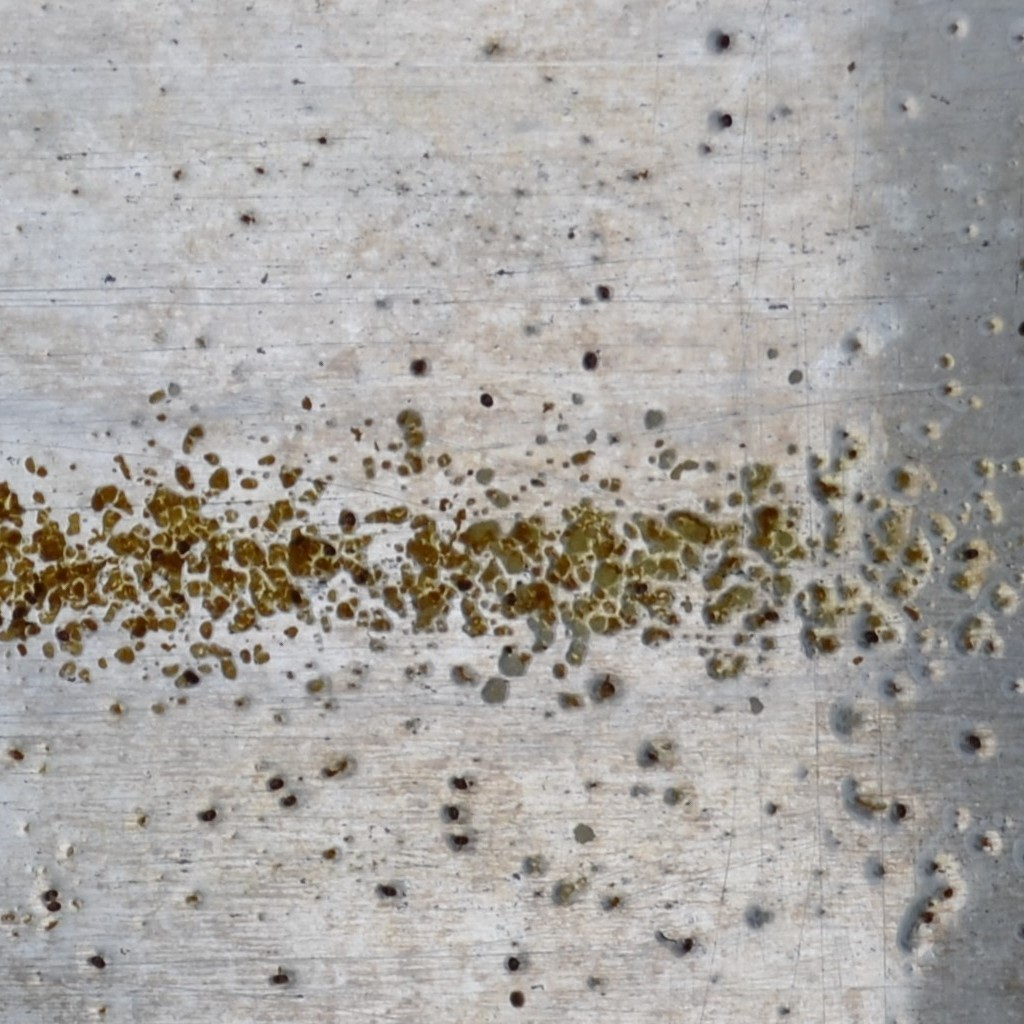varroa: (861, 627, 881, 647), (508, 988, 526, 1010), (182, 666, 200, 688), (268, 771, 285, 794), (582, 347, 599, 370), (200, 806, 219, 826), (962, 543, 979, 565), (478, 390, 495, 411), (967, 729, 984, 750), (506, 953, 522, 975), (452, 832, 470, 851), (715, 108, 734, 126), (88, 952, 108, 969), (762, 605, 780, 623), (444, 805, 463, 822), (450, 776, 469, 791), (342, 510, 357, 528), (281, 790, 295, 809), (897, 801, 909, 823), (712, 34, 731, 47), (44, 887, 60, 901), (46, 901, 62, 912)
